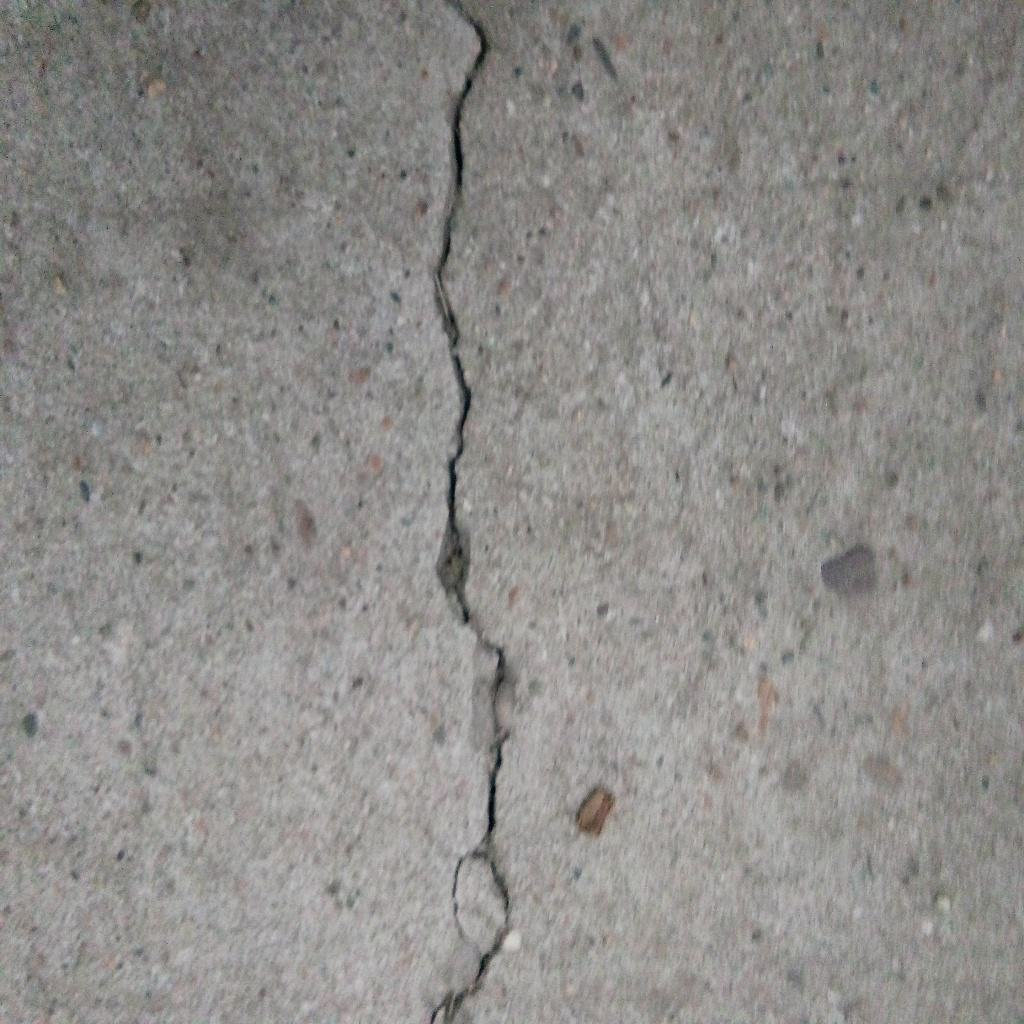Crack: (428, 1, 512, 1024)
